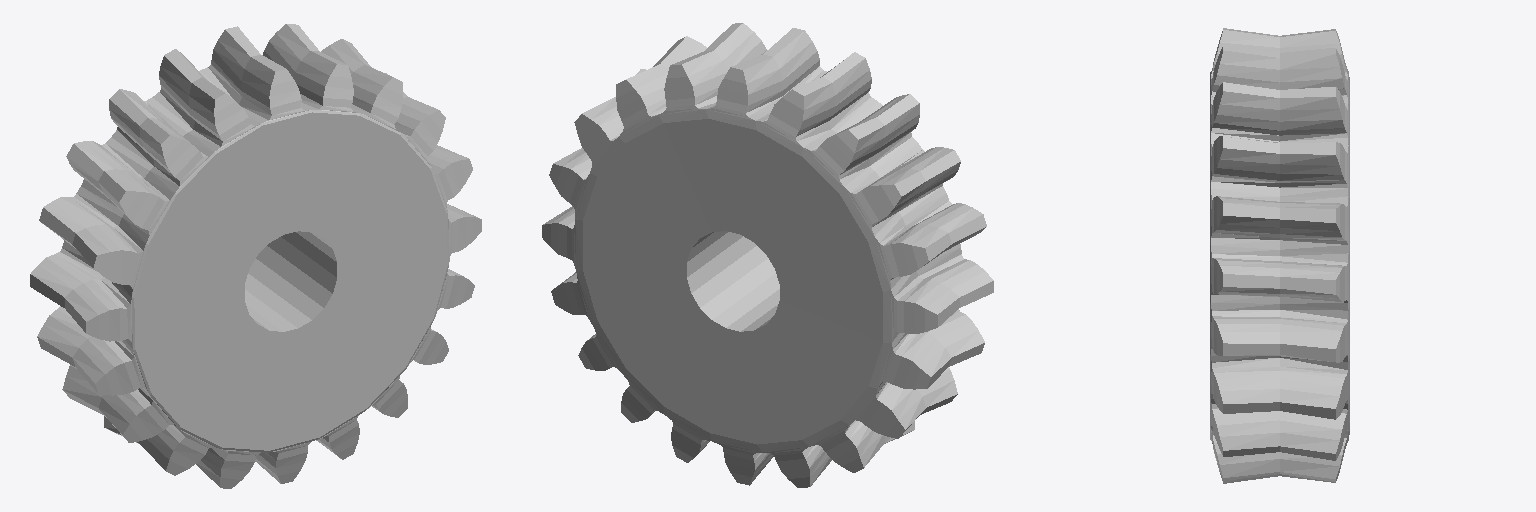
Rendered from GearRetopo.obj.
3 renders of one model, left to right at view 1: azimuth 30°, elevation 25°; view 2: azimuth 150°, elevation 25°; view 3: azimuth 270°, elevation 25°, orthographic.
Visible parts, largest first — view 1: GearRetopo.002; view 2: GearRetopo.002; view 3: GearRetopo.002.
Boxes of the visible parts, x1=… form: GearRetopo.002: x1=30, y1=24, x2=481, y2=488; GearRetopo.002: x1=542, y1=23, x2=993, y2=487; GearRetopo.002: x1=1210, y1=28, x2=1349, y2=483.
Bounding box in the file's own units: 33.67 × 33.67 × 10.34.